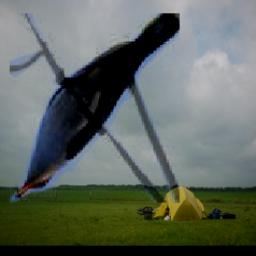Cuckoo: (10, 14, 180, 204)
